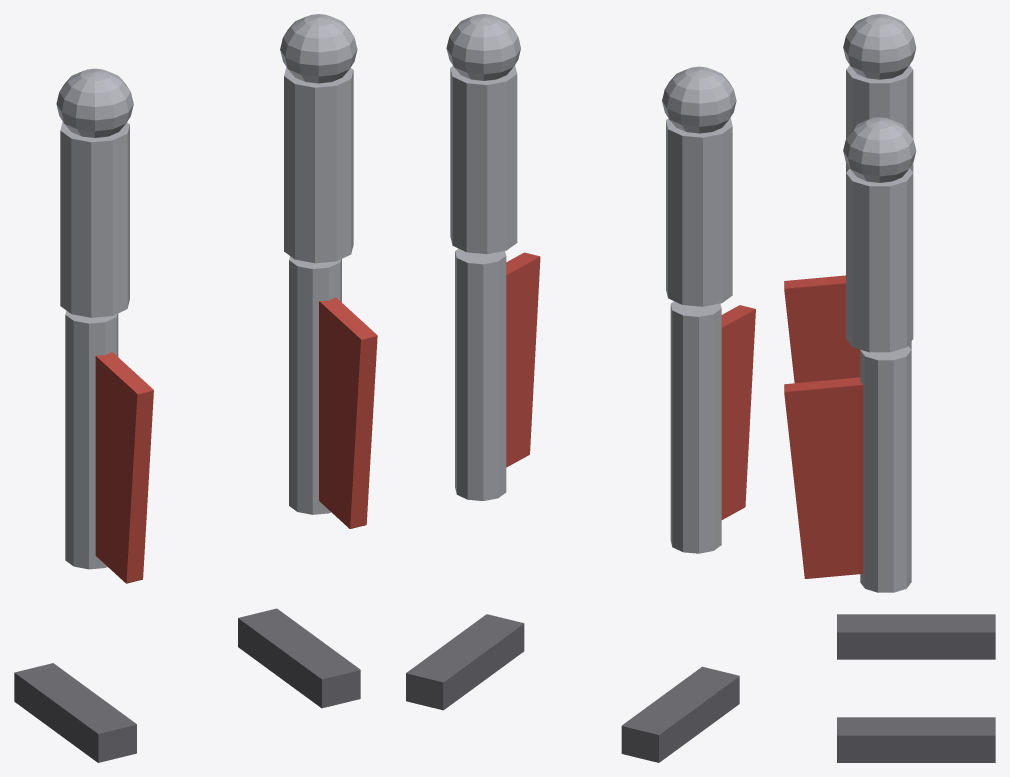
File: street-sprinter.glb
3 renders of one model, left to right at view 1: azimuth 30°, elevation 25°; view 2: azimuth 150°, elevation 25°; view 3: azimuth 270°, elevation 25°, orthographic. The views are drawn at different scales.
Visible parts, largest first — view 1: thigh_l, thigh_r, fairing_r, fairing_l, shin_r, shin_l, blade_l, blade_r, hip_l, hip_r; view 2: shin_r, shin_l, thigh_l, thigh_r, blade_l, blade_r, fairing_r, fairing_l, hip_r, hip_l; view 3: fairing_l, shin_l, thigh_l, blade_l, blade_r, fairing_r, hip_r, hip_l, thigh_r.
Boxes of the visible parts, bbox=[...] form: thigh_l: bbox=[284, 67, 353, 263]; thigh_r: bbox=[60, 122, 129, 317]; fairing_r: bbox=[95, 352, 153, 583]; fairing_l: bbox=[319, 297, 377, 528]; shin_r: bbox=[65, 310, 118, 569]; shin_l: bbox=[289, 256, 341, 514]; blade_l: bbox=[238, 608, 360, 708]; blade_r: bbox=[14, 663, 136, 762]; hip_l: bbox=[280, 14, 357, 83]; hip_r: bbox=[56, 68, 133, 137]; shin_r: bbox=[670, 301, 721, 553]; shin_l: bbox=[455, 248, 506, 500]; thigh_l: bbox=[450, 65, 517, 254]; thigh_r: bbox=[666, 118, 732, 306]; blade_l: bbox=[406, 614, 524, 710]; blade_r: bbox=[621, 666, 739, 762]; fairing_r: bbox=[721, 305, 755, 519]; fairing_l: bbox=[506, 252, 540, 467]; hip_r: bbox=[662, 66, 736, 133]; hip_l: bbox=[446, 14, 520, 80]; fairing_l: bbox=[784, 377, 863, 578]; shin_l: bbox=[860, 346, 911, 592]; thigh_l: bbox=[846, 168, 913, 352]; blade_l: bbox=[837, 717, 995, 762]; blade_r: bbox=[837, 614, 995, 659]; fairing_r: bbox=[784, 275, 860, 383]; hip_r: bbox=[843, 14, 916, 79]; hip_l: bbox=[843, 117, 916, 182]; thigh_r: bbox=[846, 65, 913, 172].
Bounding box in the file's own units: 0.52 × 1.14 × 0.3464.
